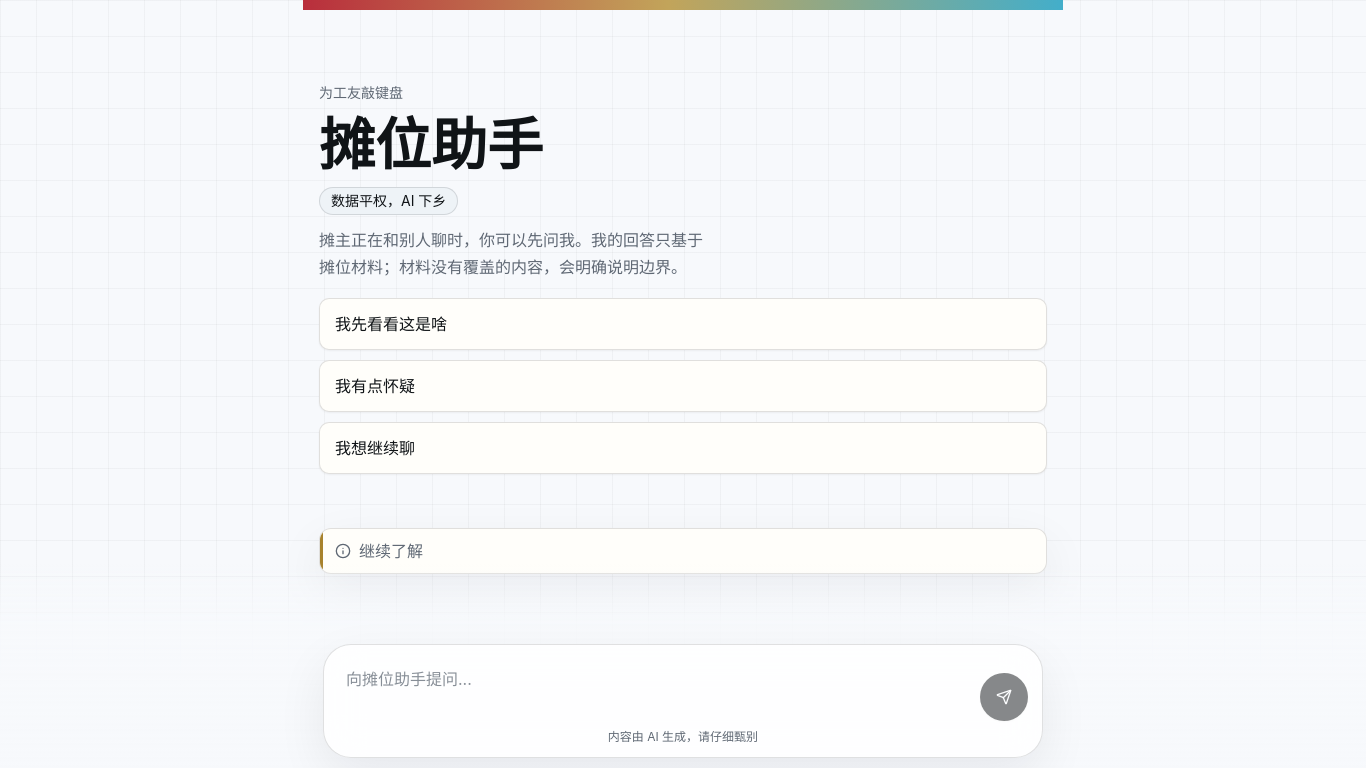
Test: Home › limits assistant markdown to the supported document elements
Type "测试支持哪些 Markdown" into the text box named "输入问题".
click(654, 690); type("测试支持哪些 Markdown")  # box left=338, top=659, right=970, bottom=721
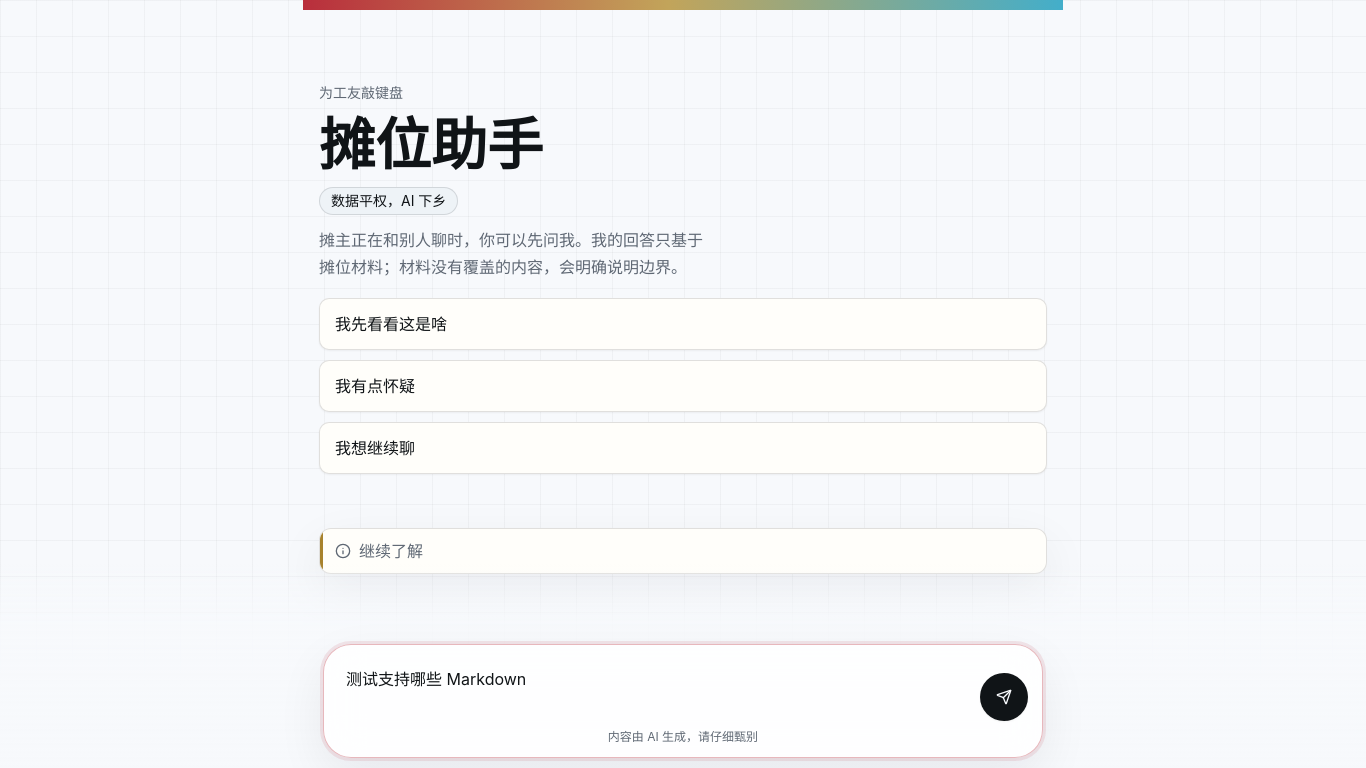
Click the button named "发送".
click(1004, 697)  # box left=980, top=673, right=1028, bottom=721
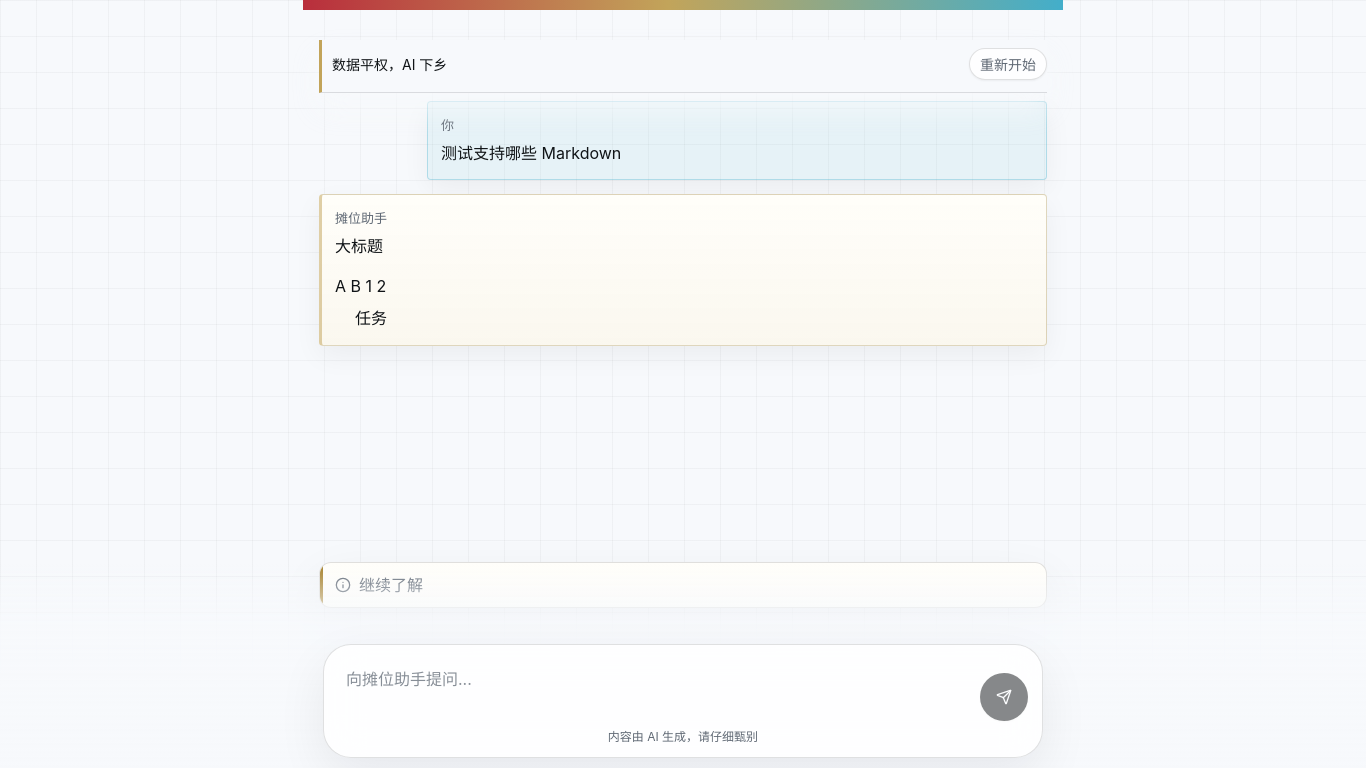
expect the list item "任务" is shown: met, box left=355, top=308, right=387, bottom=328
expect the text "大标题" is shown: met, box left=335, top=236, right=383, bottom=256
